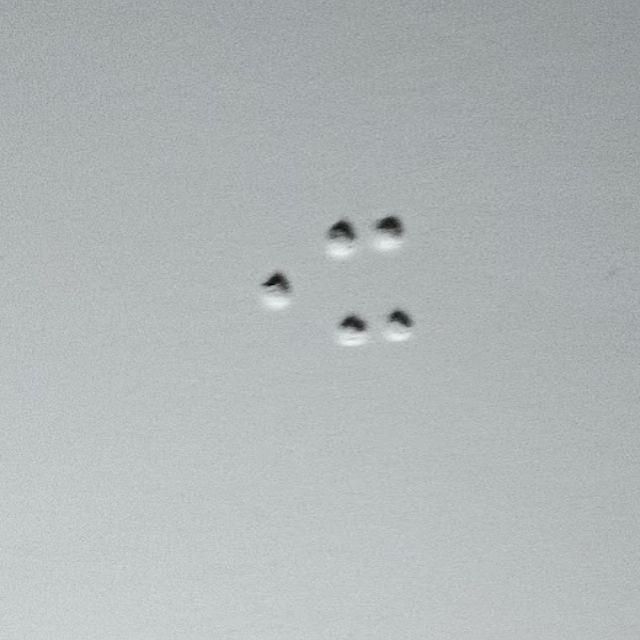dot_5: (212, 216, 294, 349)
eksamen: (327, 216, 410, 349)
